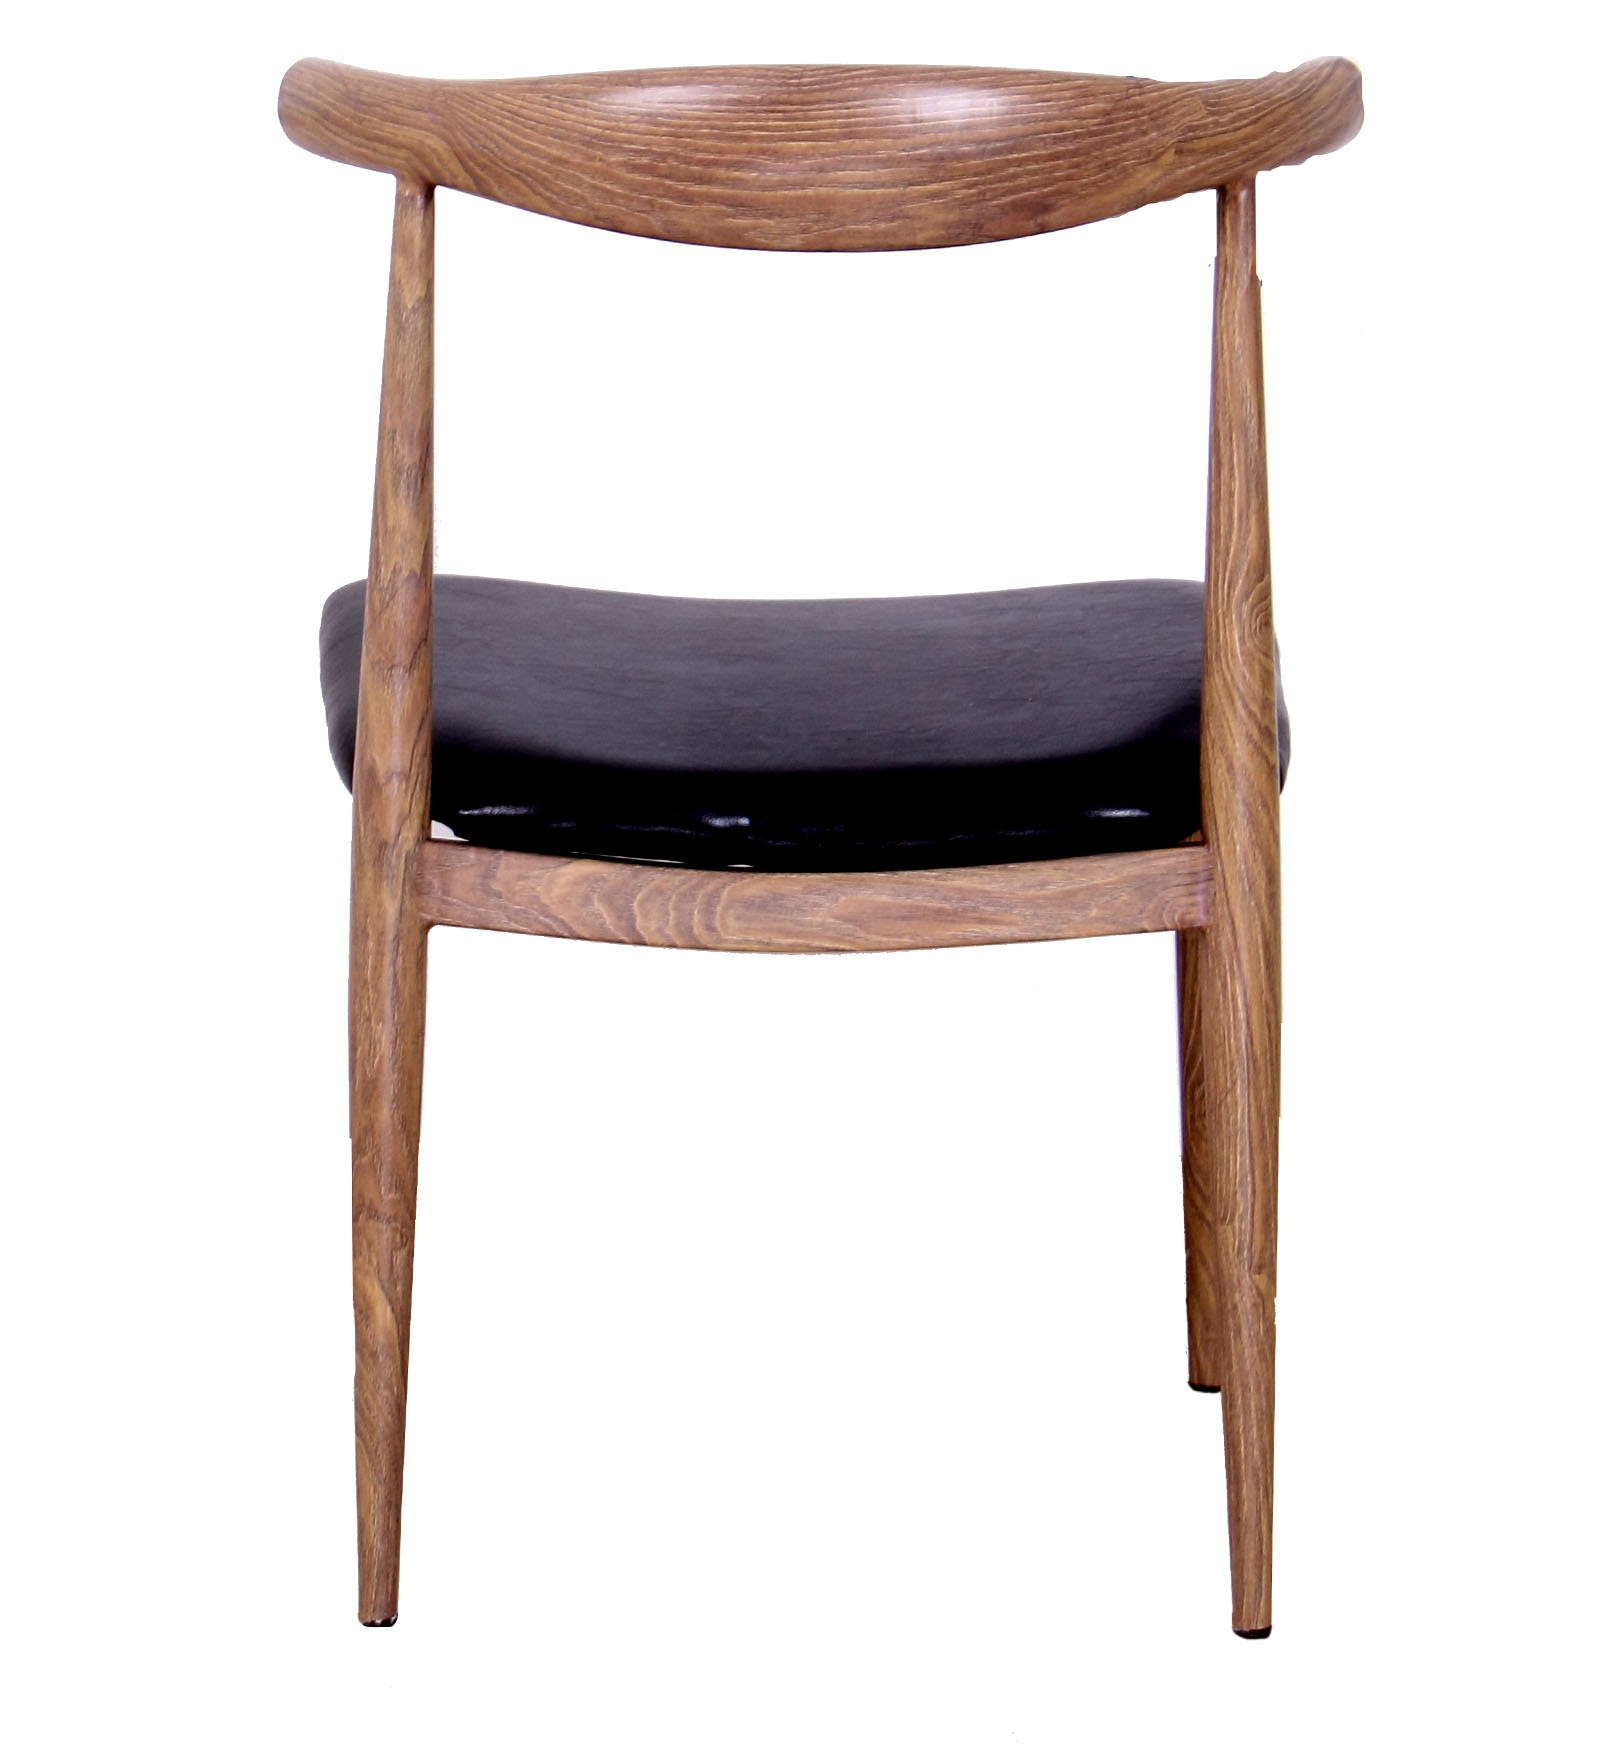Sherman Metal Chair (Set of 2) in Wooden Finish by Bohemiana: (184, 31, 1330, 1651)
